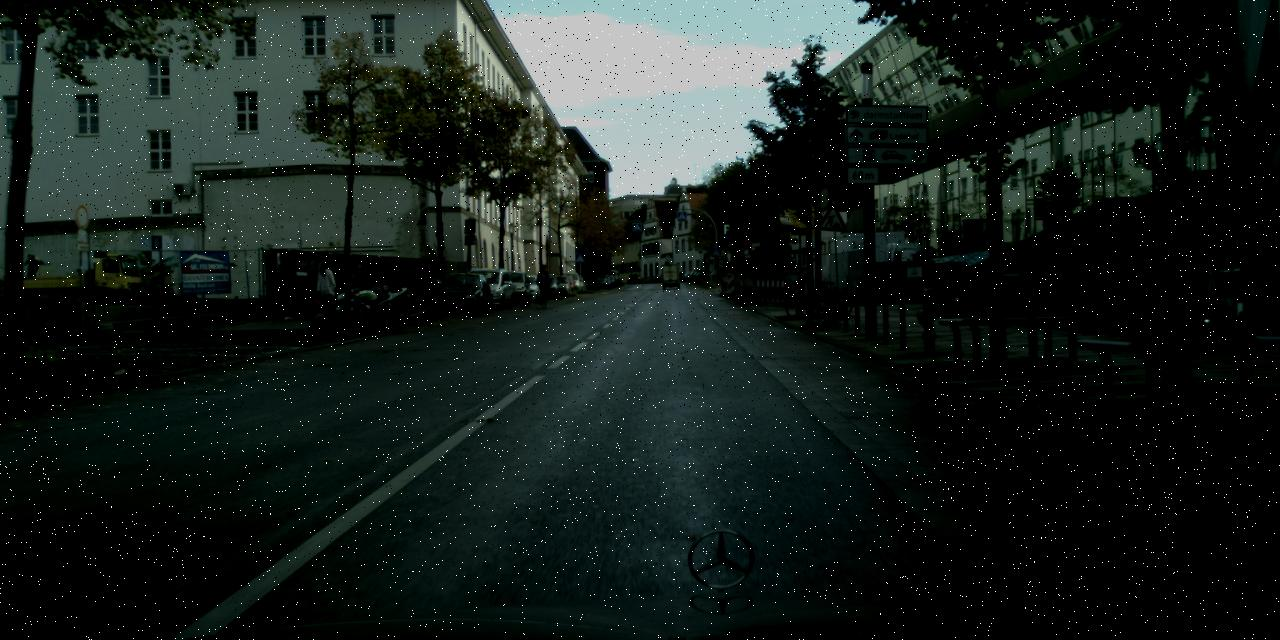ped: (313, 260, 336, 318), (334, 262, 356, 314), (356, 264, 374, 309), (535, 264, 550, 301)
